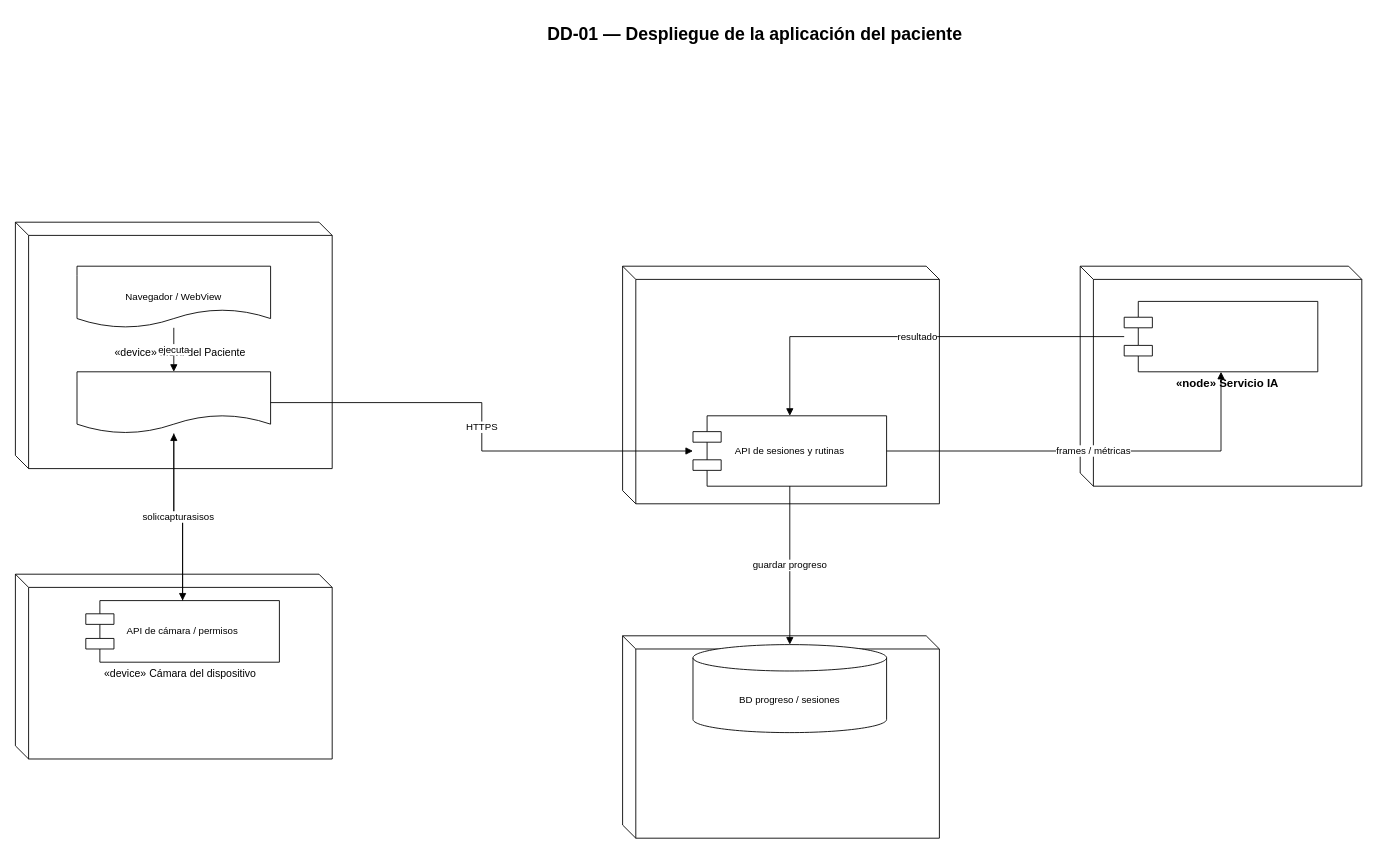
The diagram is 1386 pixels wide and 854 high, and some of its shapes have lost their labels. Here are the shapes that lost their labels. From the top down, the box of each, then its label:
(1123, 301, 1318, 372): Análisis de postura
(76, 371, 271, 433): Cliente SICST Paciente
(622, 265, 939, 504): «node» Servidor SICST
(622, 635, 939, 838): «node» Datos
